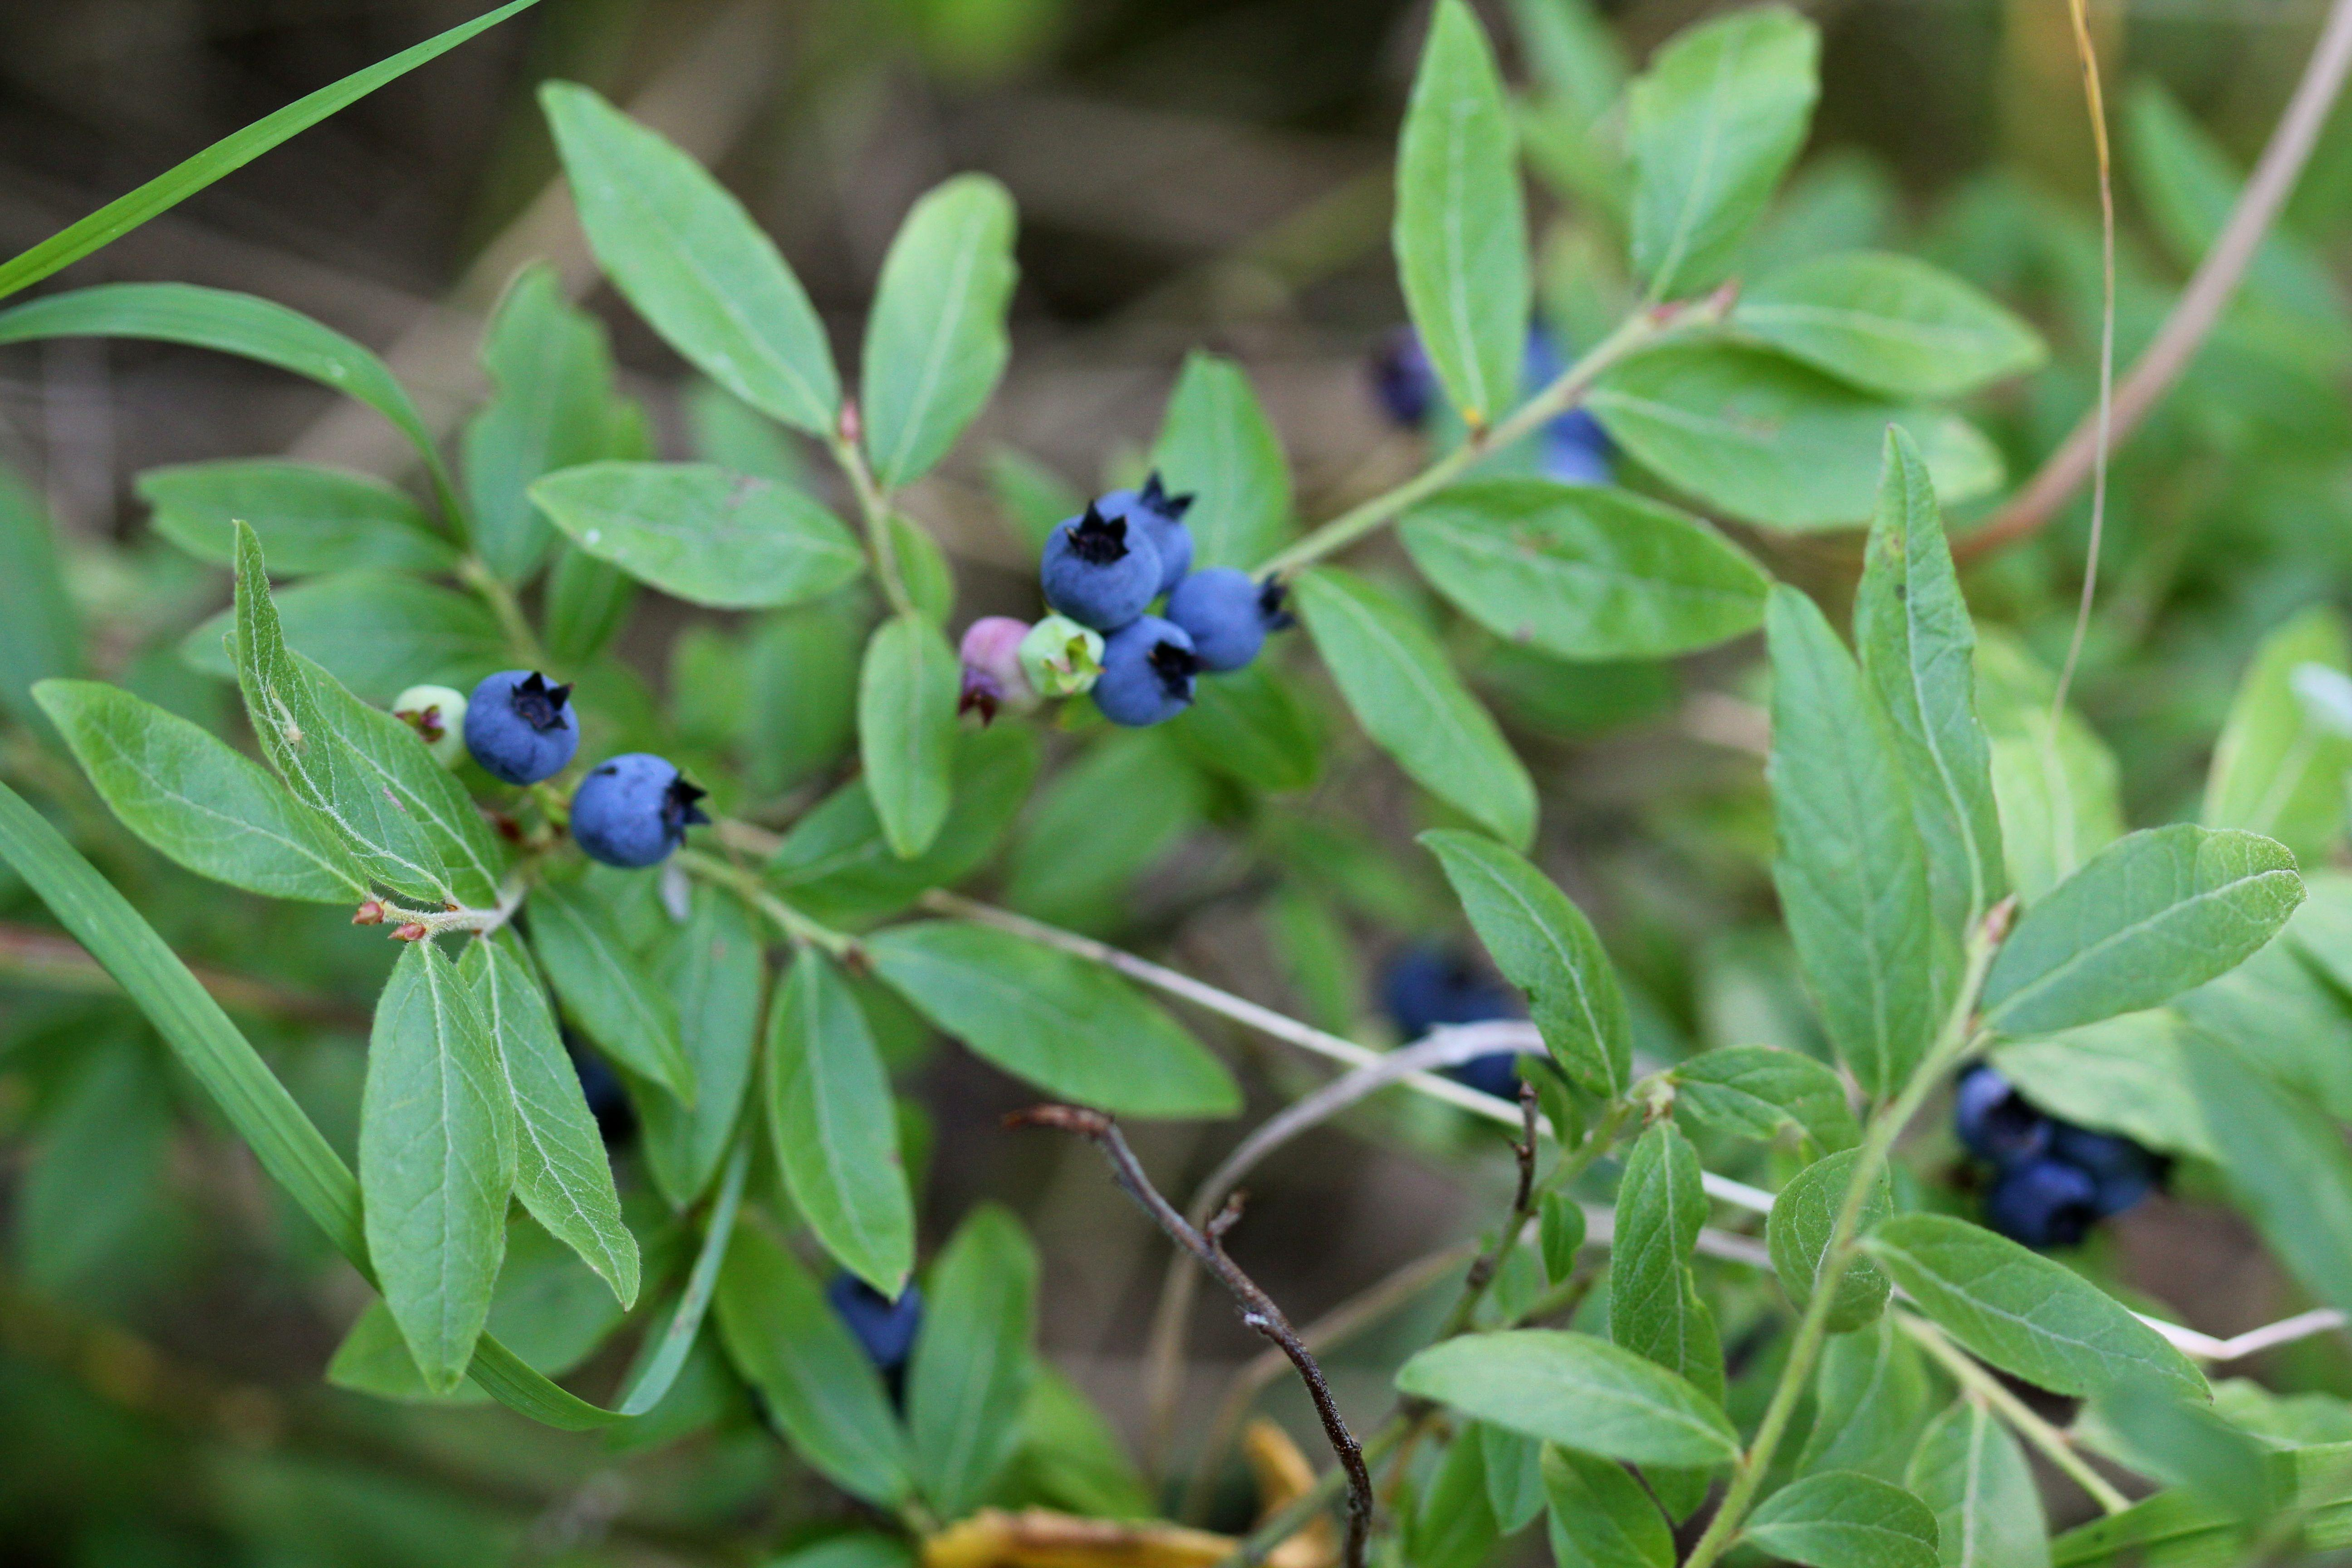Blueberry leaf: (1799, 1160, 2296, 1547), (129, 534, 549, 957), (271, 924, 518, 1477), (1556, 299, 2070, 557), (1705, 579, 1943, 1120), (523, 91, 859, 445), (865, 901, 1256, 1158), (1937, 833, 2301, 1104), (878, 107, 1130, 494), (707, 961, 927, 1354), (1405, 812, 1640, 1129), (1389, 21, 1573, 420), (488, 455, 854, 642), (1601, 1108, 1767, 1468), (865, 549, 999, 942)
